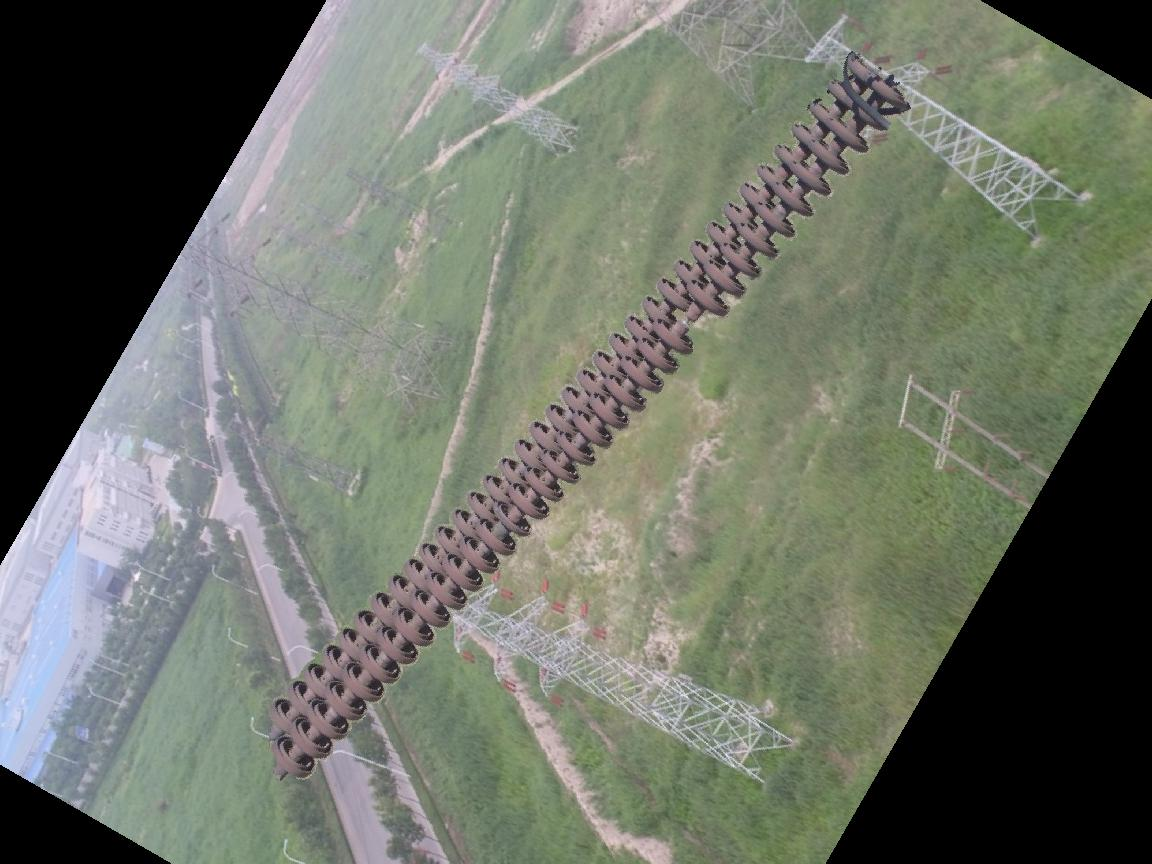insulator: (258, 47, 910, 786)
insulator_stringdrop: (647, 279, 735, 358)
